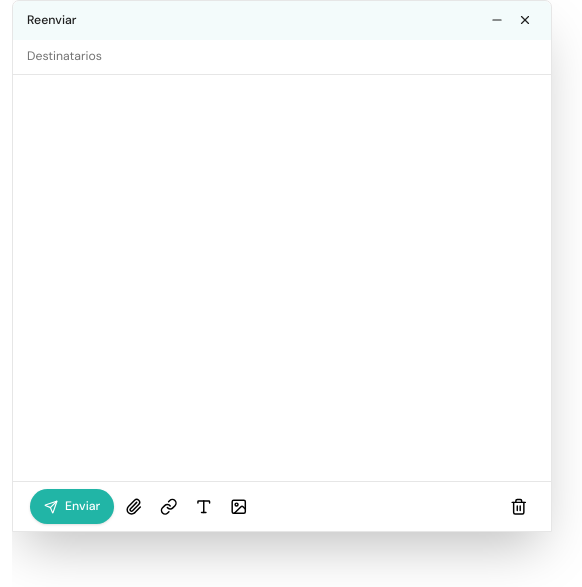
NotificationComposeModal reply/forward chrome › keeps old recipients row for forward modal and hides subject
The image size is (582, 587).
Click the button "Destinatarios": coordinates (64, 56) [13,40,551,74]
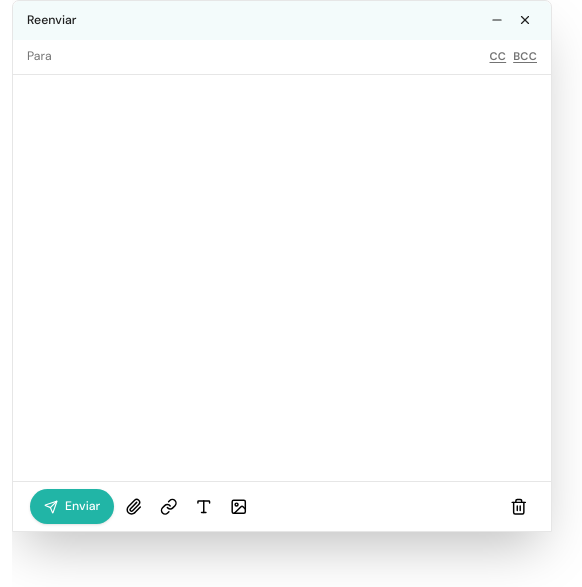
Now the text "Para" is shown, box [27,48,52,64]
Now the button "CC" is shown, box [490,49,506,64]
Now the button "BCC" is shown, box [513,49,537,64]
